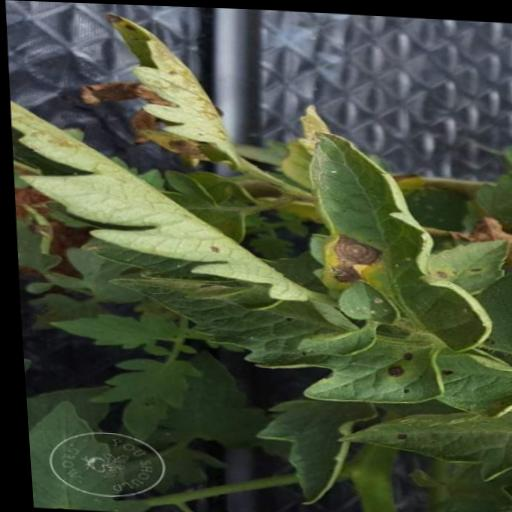Early Blight: (286, 103, 497, 348), (97, 11, 242, 165)
Healthy: (239, 385, 385, 505), (85, 350, 202, 446)
